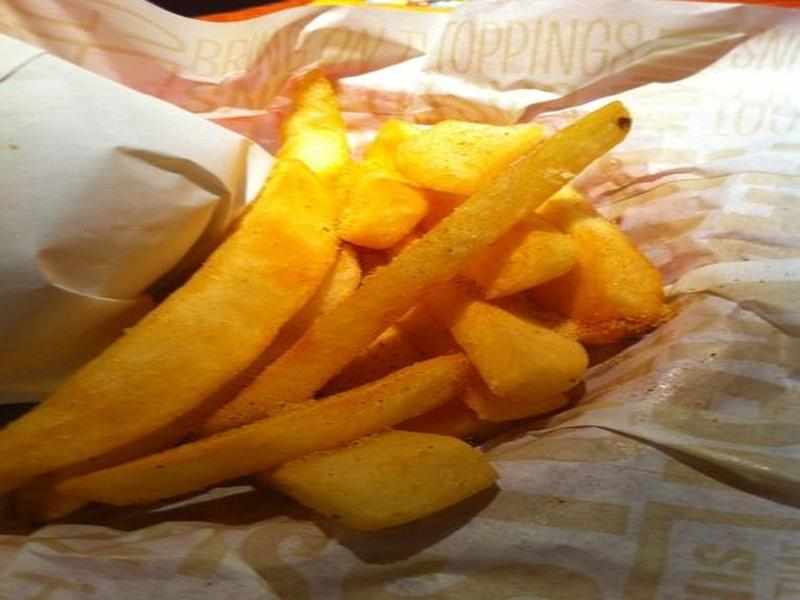french_fries: (128, 31, 735, 565)
